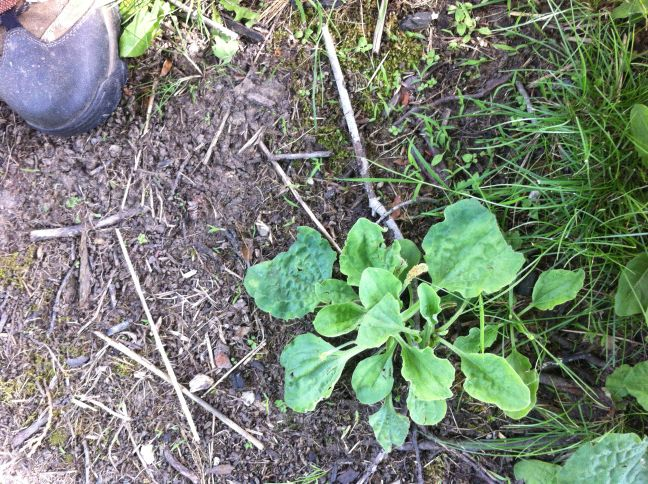weed1: (244, 193, 578, 437)
